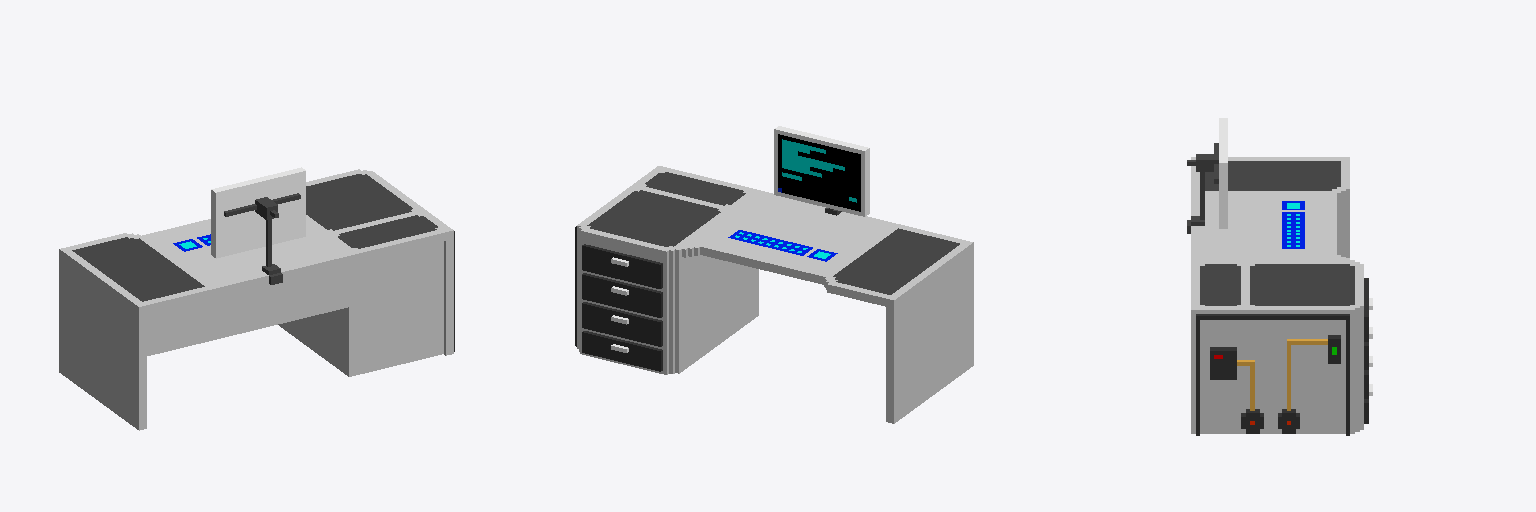
The picture shows the model from 3 angles: view 1: azimuth 30°, elevation 25°; view 2: azimuth 150°, elevation 25°; view 3: azimuth 270°, elevation 25°; orthographic projection.
Visible parts, largest first — view 1: object 1; view 2: object 1; view 3: object 1.
Boxes of the visible parts, x1,y1,x2,y2 form: object 1: [59, 167, 454, 430]; object 1: [575, 126, 973, 423]; object 1: [1187, 118, 1372, 435].
Size of the model in its own units: 8.2 by 5 by 4.1.
Materials: 1 (1 with a texture image).